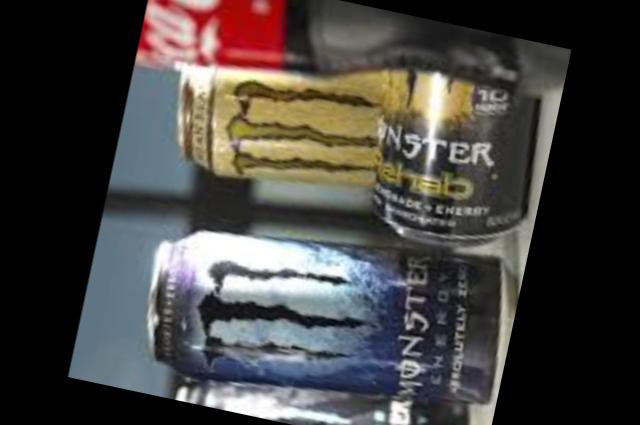metal: (148, 232, 496, 401), (173, 379, 463, 425)
